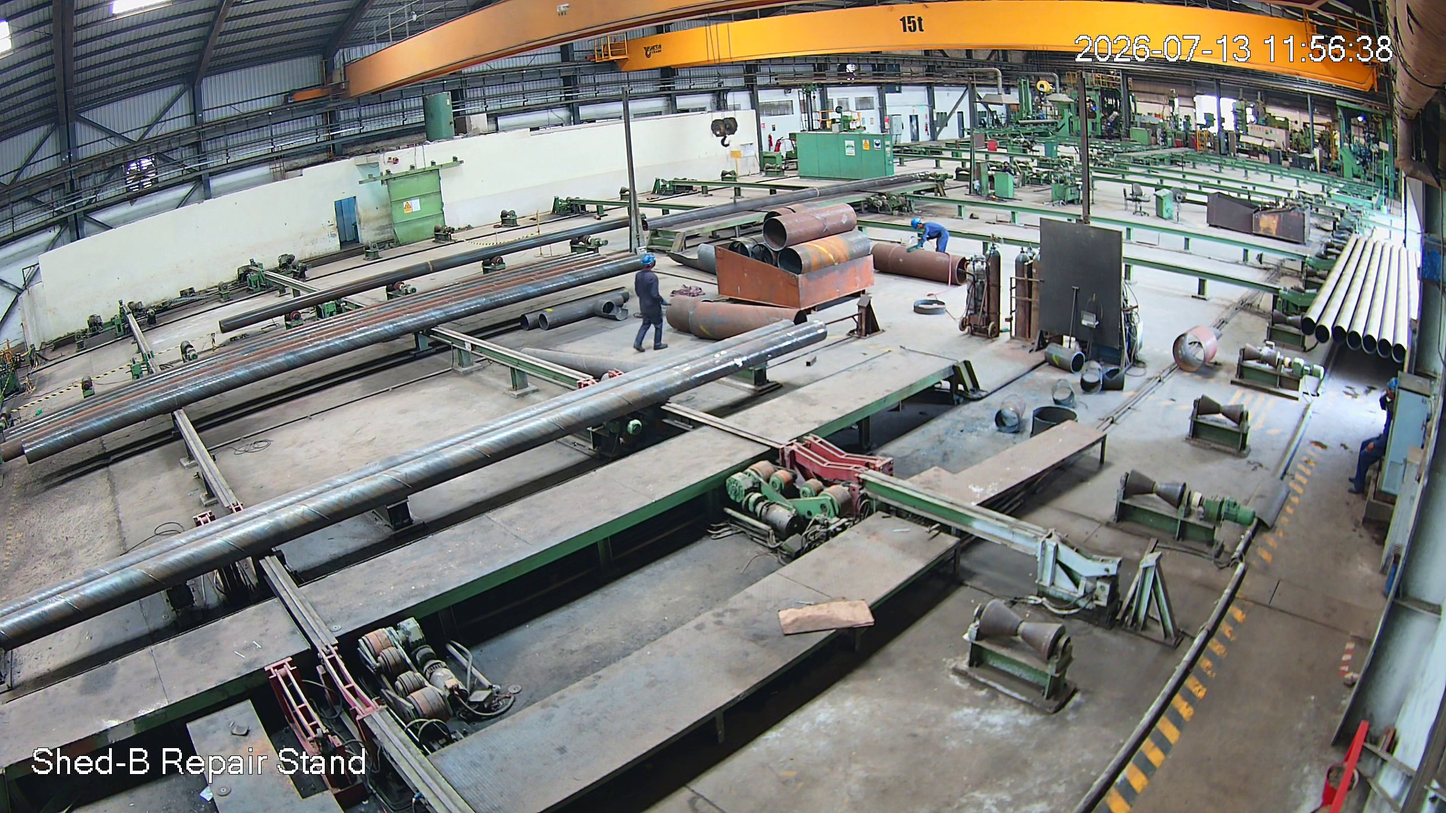Helmet: (910, 218, 924, 230)
Person: (908, 219, 950, 256)
